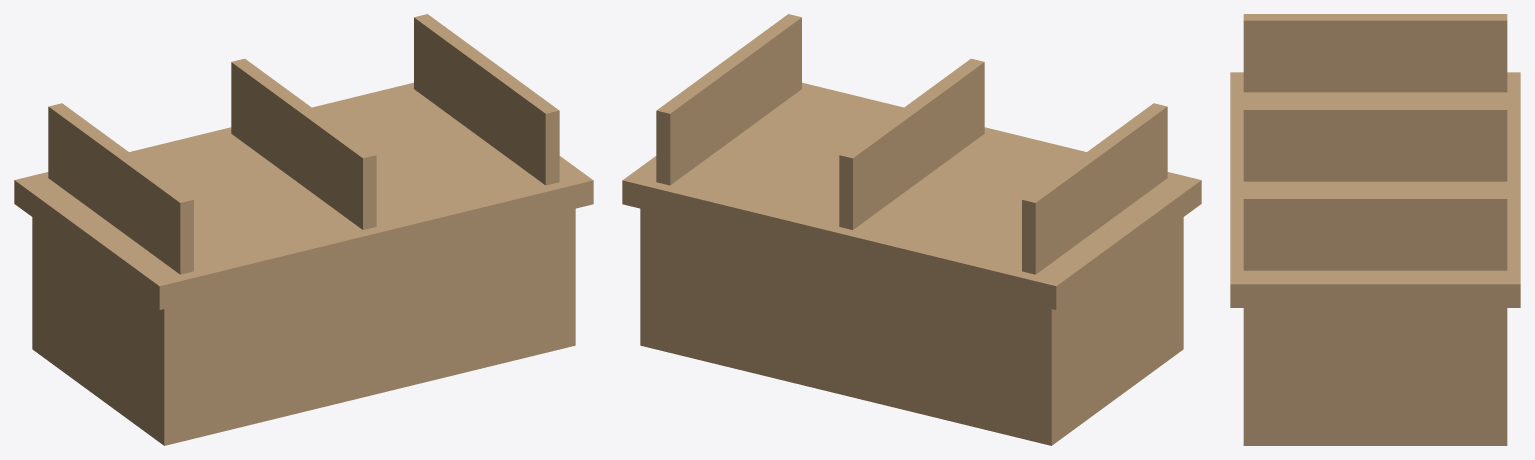
The model's file is supermarket-operations-bread-island-87d30d7e__26751.glb.
3 views of the same model, side by side, from view 1: azimuth 30°, elevation 25°; view 2: azimuth 150°, elevation 25°; view 3: azimuth 270°, elevation 25° (orthographic).
Parts seen in each view (by area): view 1: bread-island; view 2: bread-island; view 3: bread-island.
Boxes of the visible parts, x1,y1,x2,y2 form: bread-island: [14, 14, 593, 445]; bread-island: [622, 14, 1201, 445]; bread-island: [1230, 14, 1520, 445].
Size of the model in its own units: 1.9 by 1 by 1.1.
